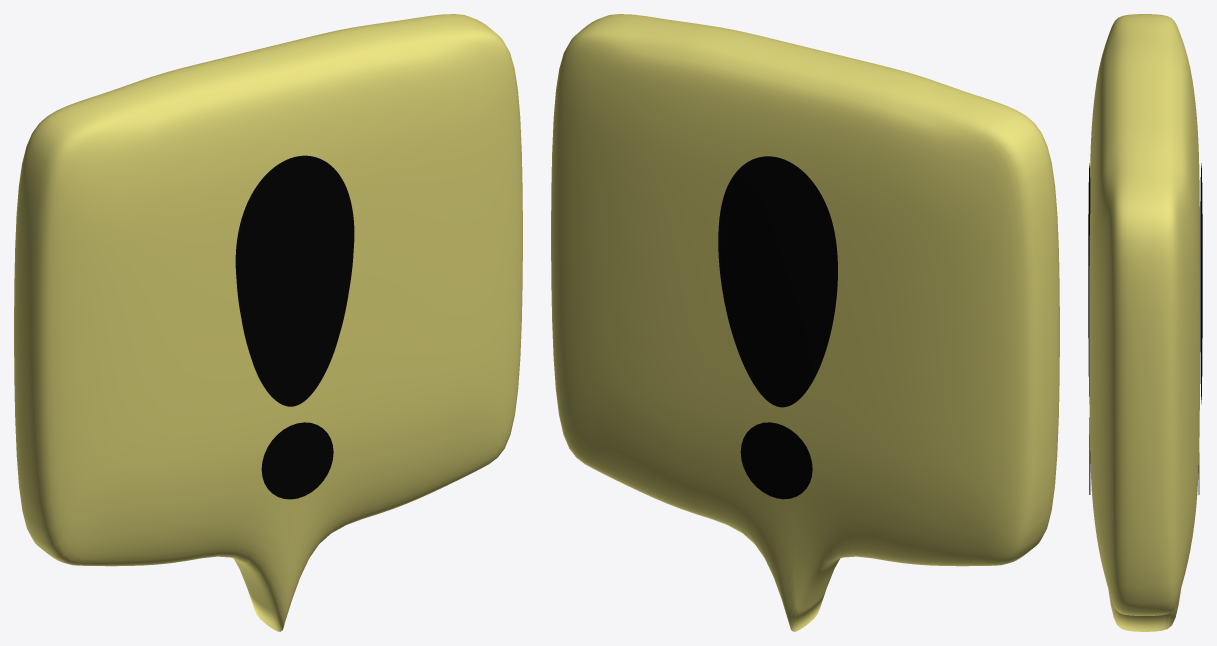
The model's file is exclamationbubble (2).fbx.
3 views of the same model, side by side, from view 1: azimuth 30°, elevation 25°; view 2: azimuth 150°, elevation 25°; view 3: azimuth 270°, elevation 25° (orthographic). The views are drawn at different scales.
Visible parts, largest first — view 1: Roundcube.005, Circle.014, Circle.013; view 2: Roundcube.005, Circle.016, Circle.015; view 3: Roundcube.005, Circle.016, Circle.014.
Part boxes in pixels (x1,y1,x2,y2): Roundcube.005: [14, 14, 522, 631]; Circle.014: [235, 155, 354, 406]; Circle.013: [261, 422, 333, 499]; Roundcube.005: [551, 14, 1059, 631]; Circle.016: [718, 156, 837, 407]; Circle.015: [740, 422, 812, 499]; Roundcube.005: [1089, 14, 1199, 631]; Circle.016: [1200, 163, 1202, 403]; Circle.014: [1088, 163, 1090, 396].
Size of the model in its own units: 36.01 by 40.01 by 7.72.
